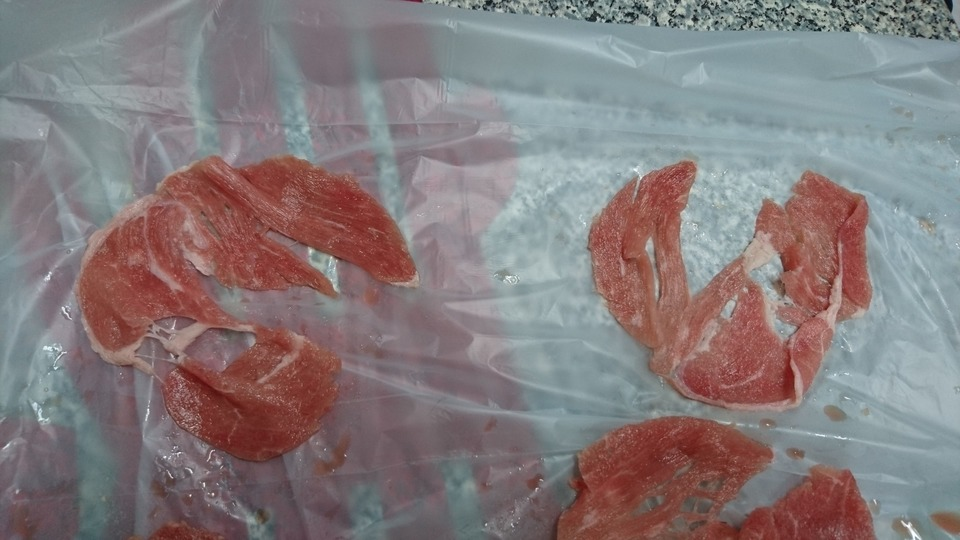restructured meat: (84, 148, 427, 473), (573, 145, 897, 416), (545, 428, 890, 540)
